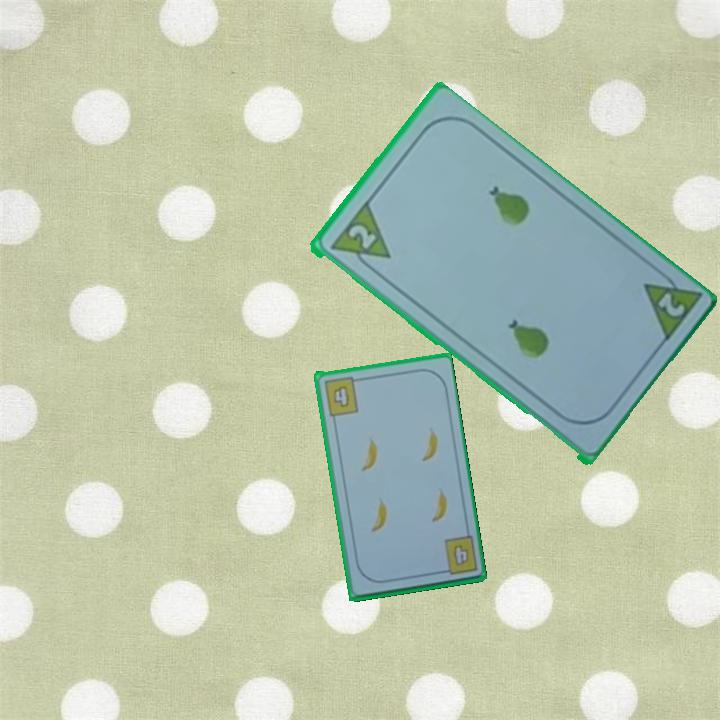2p: (638, 263, 703, 347), (344, 220, 379, 252)
4b: (435, 533, 480, 578), (320, 373, 363, 418)
